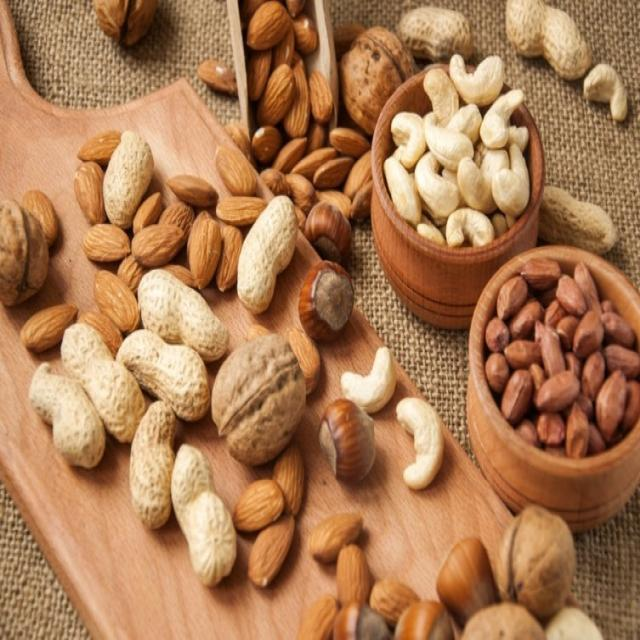Frutta secca: (22, 152, 356, 640), (380, 69, 524, 248), (251, 4, 367, 214), (493, 261, 628, 437)
